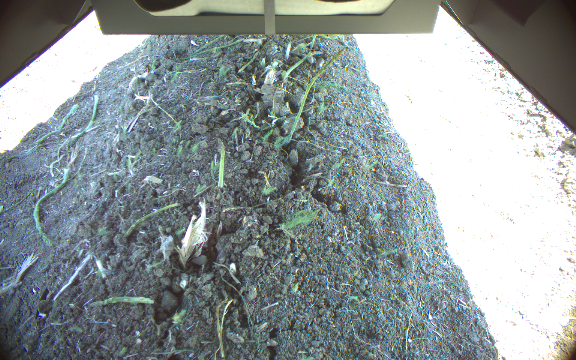aspa: (216, 144, 227, 194)
